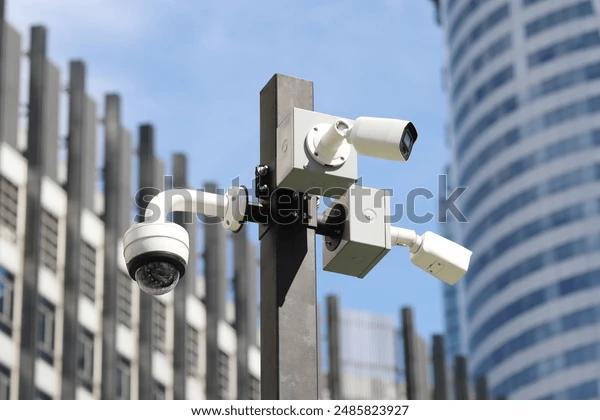------------------------------: (343, 109, 419, 166), (408, 228, 478, 289)
360-Cam: (119, 218, 192, 298)
